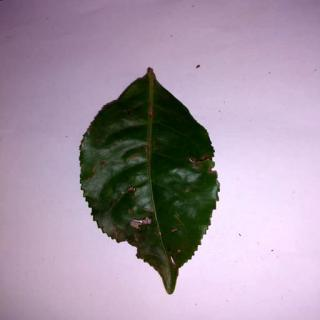Anthracnose: (80, 71, 223, 295)
